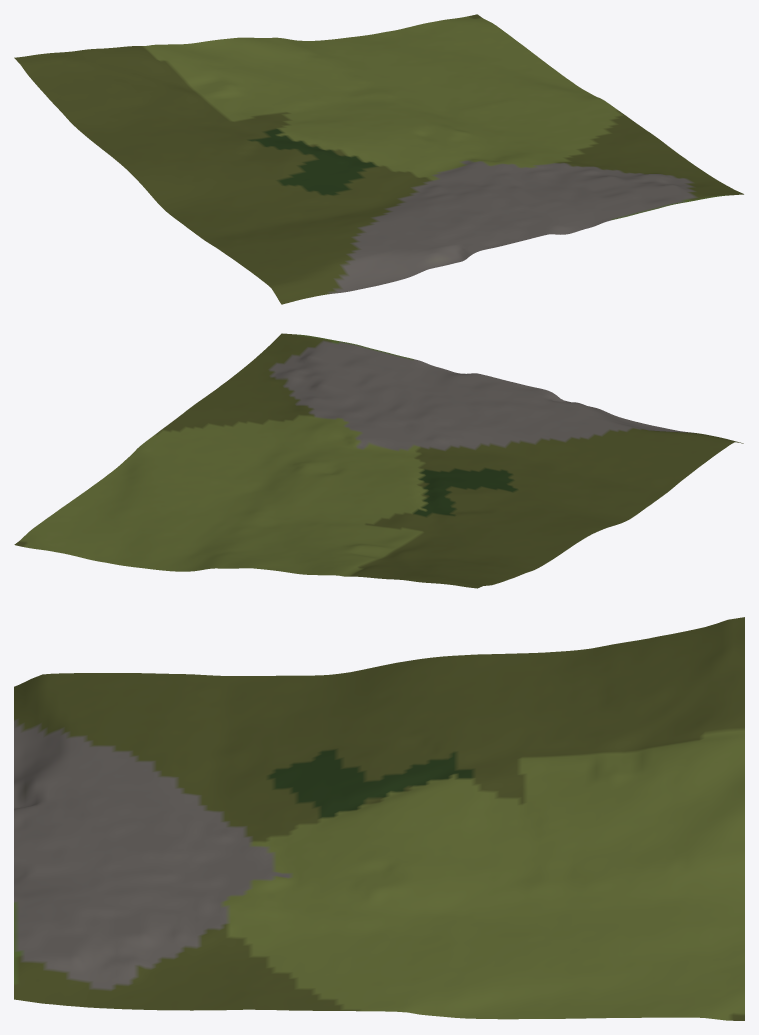
Rendered from terrain_16_-11.glb.
The picture shows the model from 3 angles, top to bottom: view 1: azimuth 30°, elevation 25°; view 2: azimuth 150°, elevation 25°; view 3: azimuth 270°, elevation 25°; orthographic projection. The views are drawn at different scales.
Parts seen in each view (by area): view 1: terrain_16_-11; view 2: terrain_16_-11; view 3: terrain_16_-11.
Boxes of the visible parts, x1,y1,x2,y2 form: terrain_16_-11: (14, 14, 743, 304); terrain_16_-11: (14, 333, 743, 588); terrain_16_-11: (14, 617, 744, 1020).
Size of the model in its own units: 256 by 36.7 by 256.
